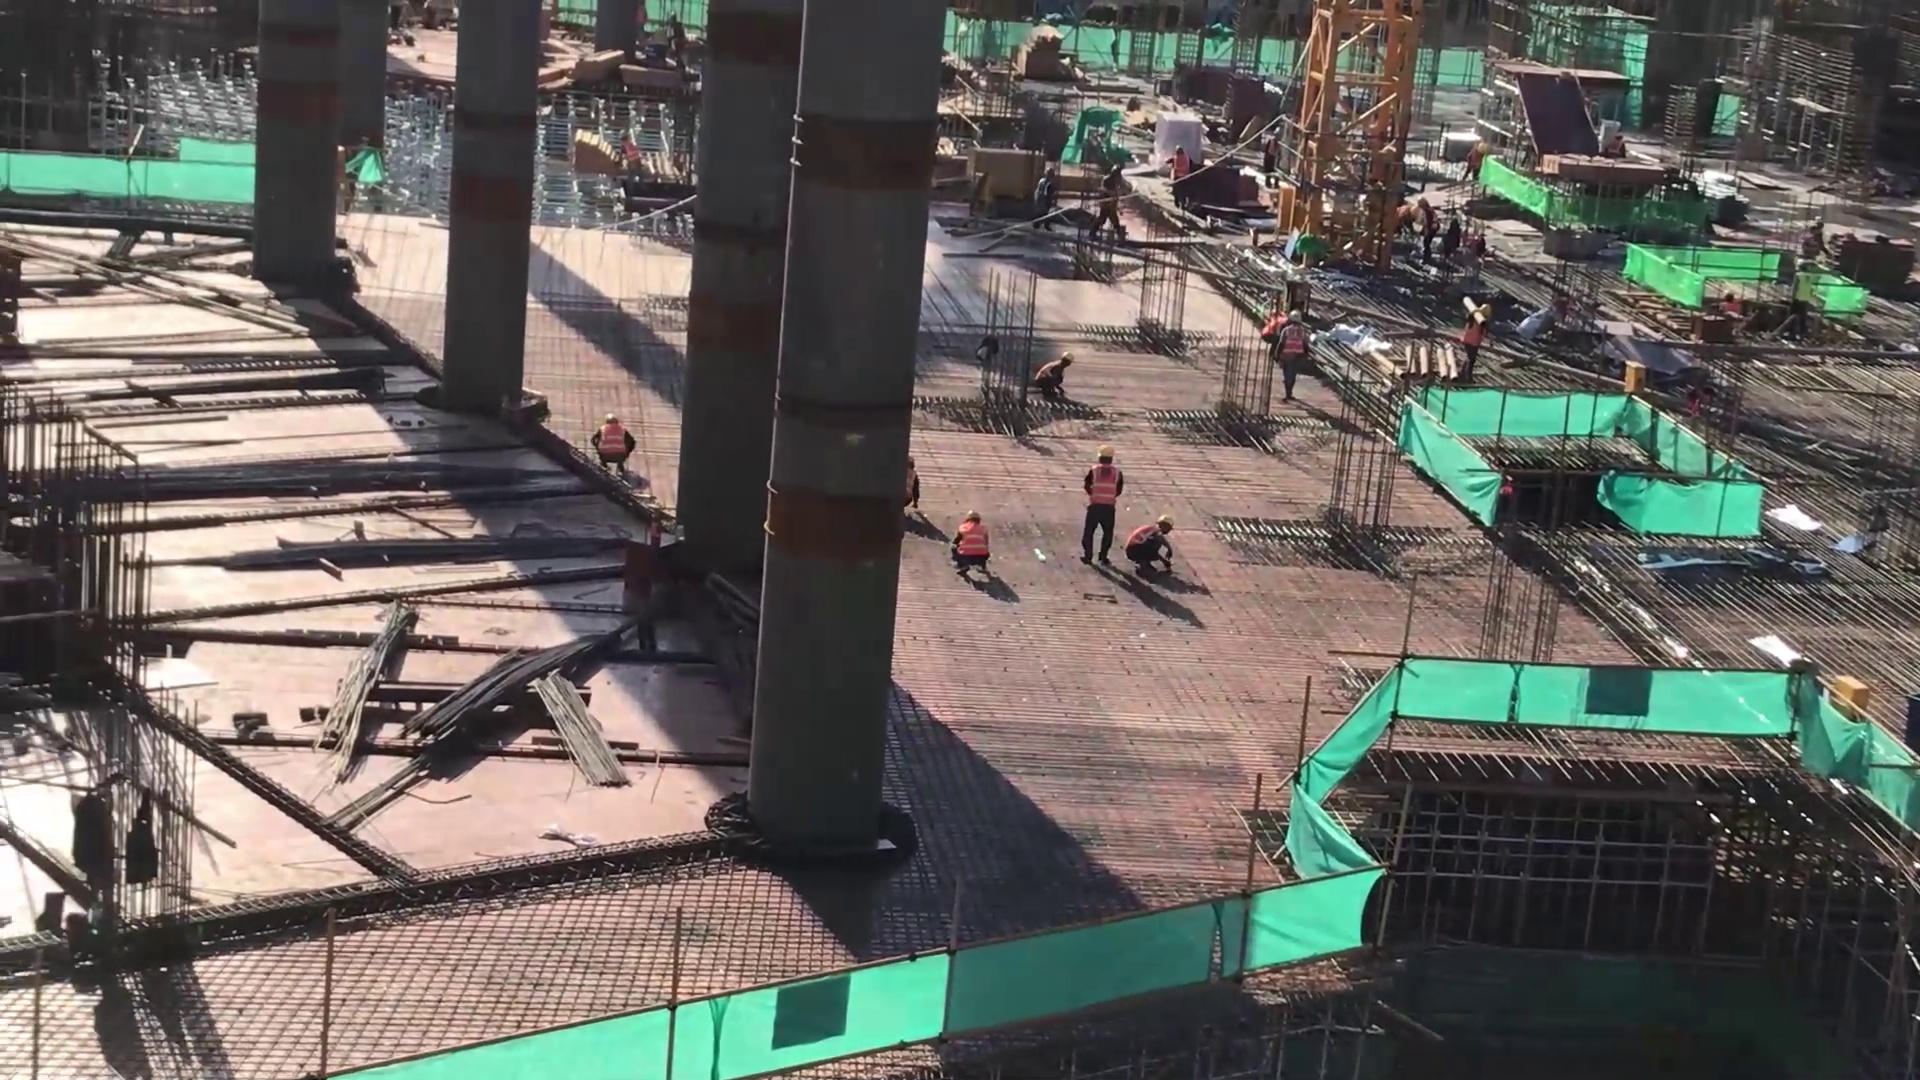helmet: (1158, 514, 1176, 526), (1096, 445, 1115, 455), (962, 509, 983, 519), (1059, 350, 1074, 360), (1174, 144, 1185, 155), (1479, 304, 1493, 315), (1044, 165, 1056, 176), (1288, 311, 1302, 321), (1797, 259, 1808, 269), (603, 415, 618, 422), (617, 129, 630, 136), (1417, 197, 1428, 205), (1111, 164, 1122, 171)
person: (1079, 441, 1121, 581), (1121, 504, 1185, 585), (948, 501, 996, 585), (582, 410, 646, 469), (1274, 306, 1309, 410), (1028, 342, 1081, 407), (1462, 303, 1500, 384), (1787, 250, 1817, 350), (1093, 156, 1127, 243), (605, 125, 648, 189), (1032, 158, 1063, 235), (1162, 142, 1194, 215), (1410, 195, 1442, 262), (1462, 138, 1494, 185), (904, 454, 923, 522)
vest: (597, 422, 631, 461), (1088, 464, 1119, 507), (1125, 526, 1160, 561), (957, 521, 985, 558), (1283, 328, 1306, 359), (1172, 158, 1190, 182)
